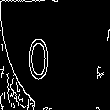O_N: (44, 28, 66, 82)
